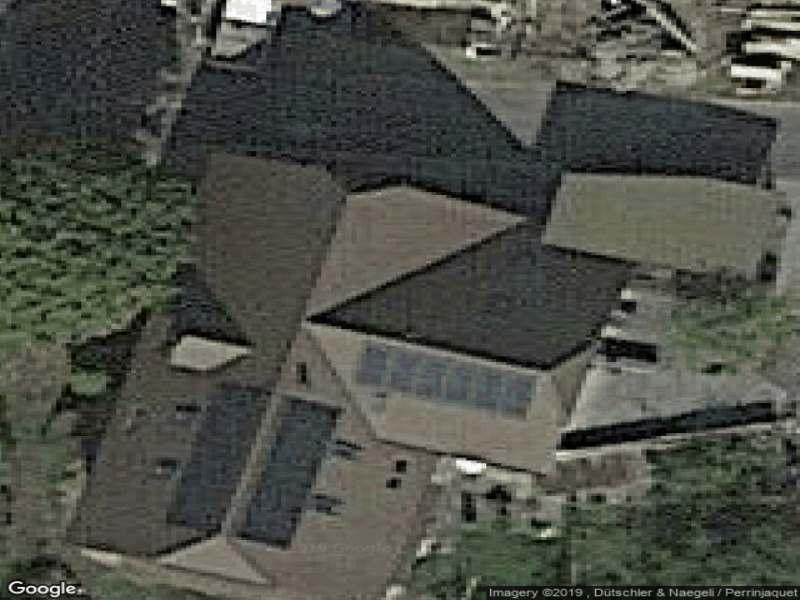pv: (169, 384, 342, 551), (349, 342, 541, 423)
